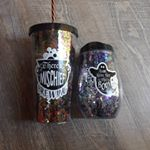cups: (26, 20, 83, 126)
